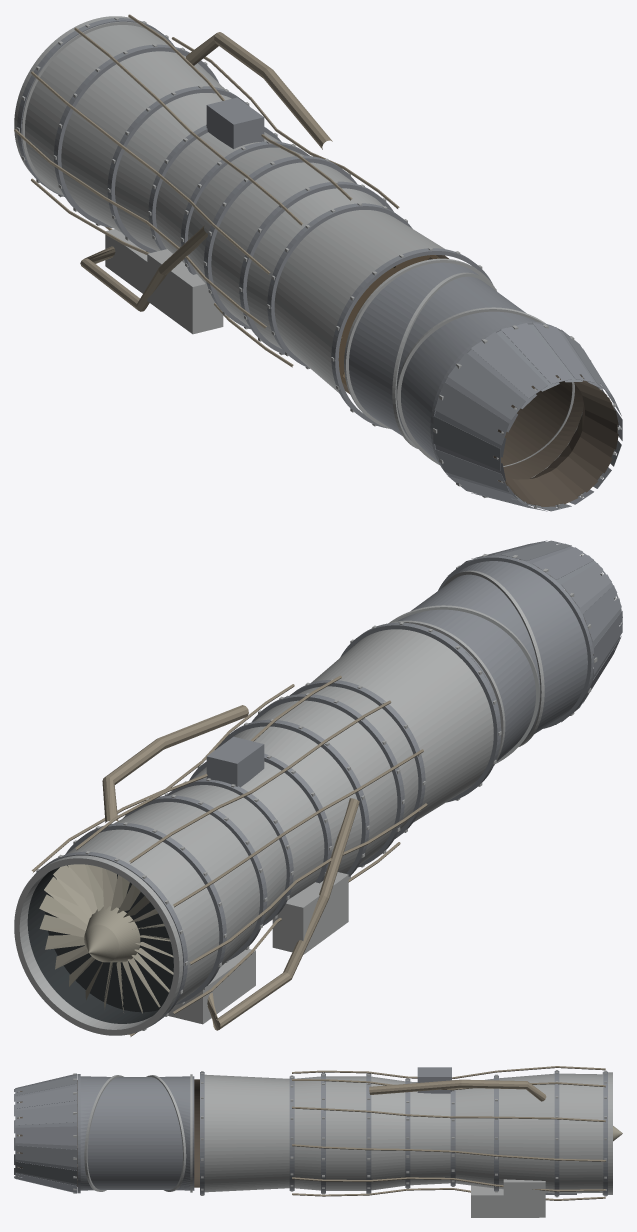
The model's file is F135-PW-600-full.glb.
The picture shows the model from 3 angles, top to bottom: view 1: azimuth 30°, elevation 25°; view 2: azimuth 150°, elevation 25°; view 3: azimuth 270°, elevation 25°; orthographic projection. The views are drawn at different scales.
Parts seen in each view (by area): view 1: F135_ExternalCasing, F135_CasingFlanges, F135_ExternalPlumbing, F135_ForwardSwivelShell, F135_Accessories, F135_AftSwivelShell, F135_MiddleLiner, F135_MiddleSwivelShell, F135_ForwardBearingRings, F135_MountsAndDriveHousing, F135_Fairing_07_Metal, F135_Fairing_08_Metal (+12 smaller); view 2: F135_ExternalCasing, F135_CasingFlanges, F135_ExternalPlumbing, F135_FanFace, F135_IntakeOccluder, F135_AftSwivelShell, F135_Accessories, F135_ForwardSwivelShell, F135_InletLip, F135_MiddleSwivelShell, F135_MountsAndDriveHousing, F135_ForwardBearingRings (+7 smaller); view 3: F135_ExternalCasing, F135_MiddleSwivelShell, F135_ExternalPlumbing, F135_CasingFlanges, F135_Accessories, F135_ForwardSwivelShell, F135_AftSwivelShell, F135_Fairing_02_Metal, F135_Fairing_03_Metal, F135_Fairing_01_Metal, F135_InletLip, F135_Fairing_04_Metal (+11 smaller).
Part boxes in pixels (bbox=[...]): F135_ExternalCasing: bbox=[25, 25, 444, 393]; F135_CasingFlanges: bbox=[17, 18, 492, 428]; F135_ExternalPlumbing: bbox=[14, 14, 399, 367]; F135_ForwardSwivelShell: bbox=[349, 262, 478, 435]; F135_Accessories: bbox=[16, 17, 496, 426]; F135_AftSwivelShell: bbox=[401, 311, 536, 462]; F135_MiddleLiner: bbox=[501, 381, 572, 465]; F135_MiddleSwivelShell: bbox=[396, 276, 526, 440]; F135_ForwardBearingRings: bbox=[344, 258, 496, 448]; F135_MountsAndDriveHousing: bbox=[206, 97, 264, 148]; F135_Fairing_07_Metal: bbox=[448, 352, 525, 419]; F135_Fairing_08_Metal: bbox=[434, 382, 509, 445]; F135_ExternalCasing: bbox=[66, 629, 493, 1003]; F135_CasingFlanges: bbox=[34, 622, 501, 1028]; F135_ExternalPlumbing: bbox=[31, 675, 427, 1036]; F135_FanFace: bbox=[39, 864, 173, 1013]; F135_IntakeOccluder: bbox=[27, 865, 173, 1023]; F135_AftSwivelShell: bbox=[457, 561, 587, 733]; F135_Accessories: bbox=[36, 622, 501, 1030]; F135_ForwardSwivelShell: bbox=[397, 609, 535, 761]; F135_InletLip: bbox=[14, 855, 183, 1035]; F135_MiddleSwivelShell: bbox=[411, 574, 540, 738]; F135_MountsAndDriveHousing: bbox=[206, 736, 264, 787]; F135_ForwardBearingRings: bbox=[389, 605, 539, 765]; F135_ExternalCasing: bbox=[204, 1073, 602, 1193]; F135_MiddleSwivelShell: bbox=[87, 1077, 182, 1189]; F135_ExternalPlumbing: bbox=[292, 1066, 605, 1200]; F135_CasingFlanges: bbox=[200, 1071, 607, 1196]; F135_Accessories: bbox=[201, 1070, 606, 1217]; F135_ForwardSwivelShell: bbox=[159, 1076, 194, 1190]; F135_AftSwivelShell: bbox=[80, 1076, 110, 1190]; F135_Fairing_02_Metal: bbox=[15, 1126, 76, 1145]; F135_Fairing_03_Metal: bbox=[15, 1104, 76, 1125]; F135_Fairing_01_Metal: bbox=[15, 1145, 76, 1167]; F135_InletLip: bbox=[602, 1072, 612, 1194]; F135_Fairing_04_Metal: bbox=[15, 1086, 76, 1108].
Bounding box in the file's own units: 1.25 × 1.42 × 5.63.
